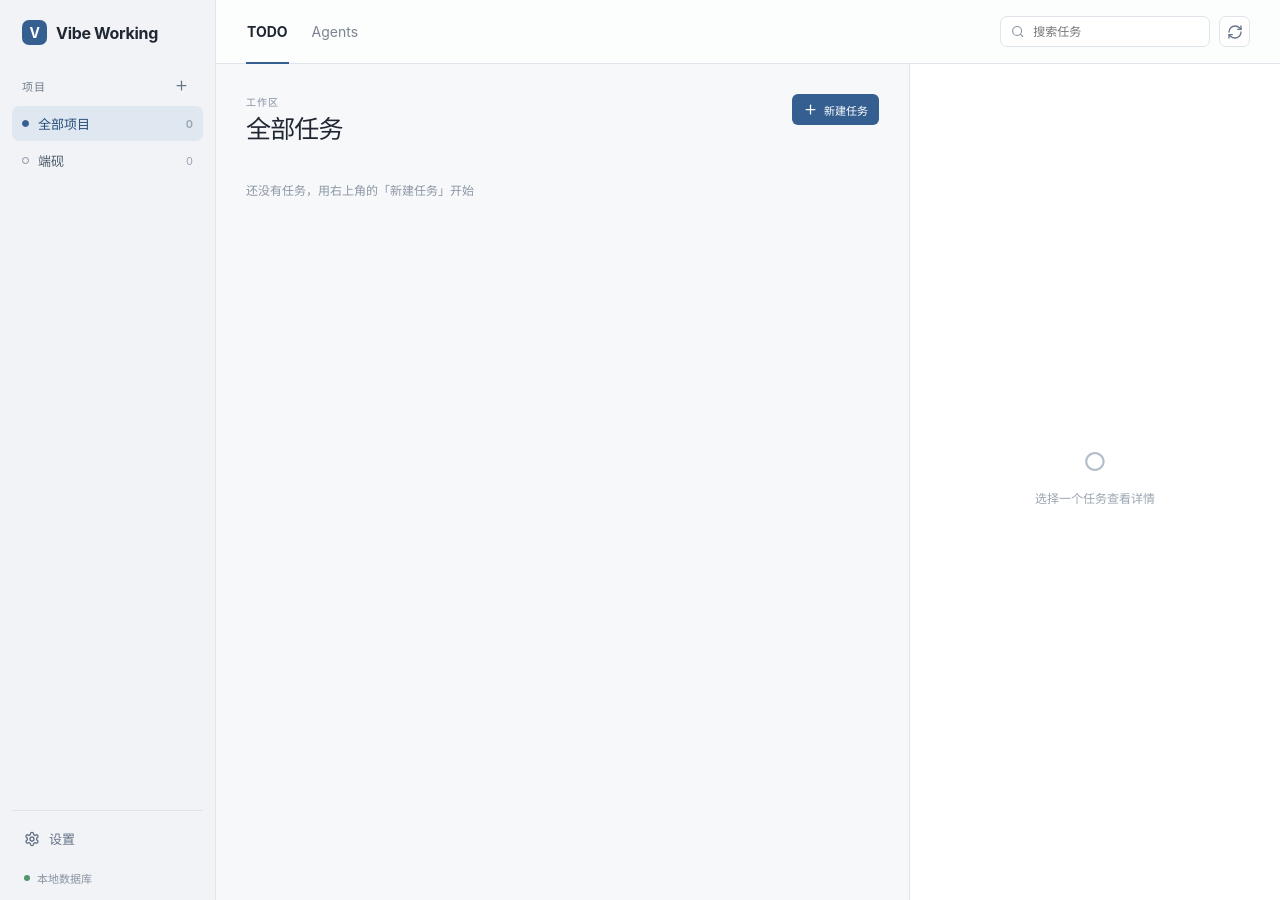
Test: running agents › says the project has nothing running rather than showing an empty list
Click the button with class "tab" showing "Agents": {"x": 335, "y": 32} [311,0,359,63]
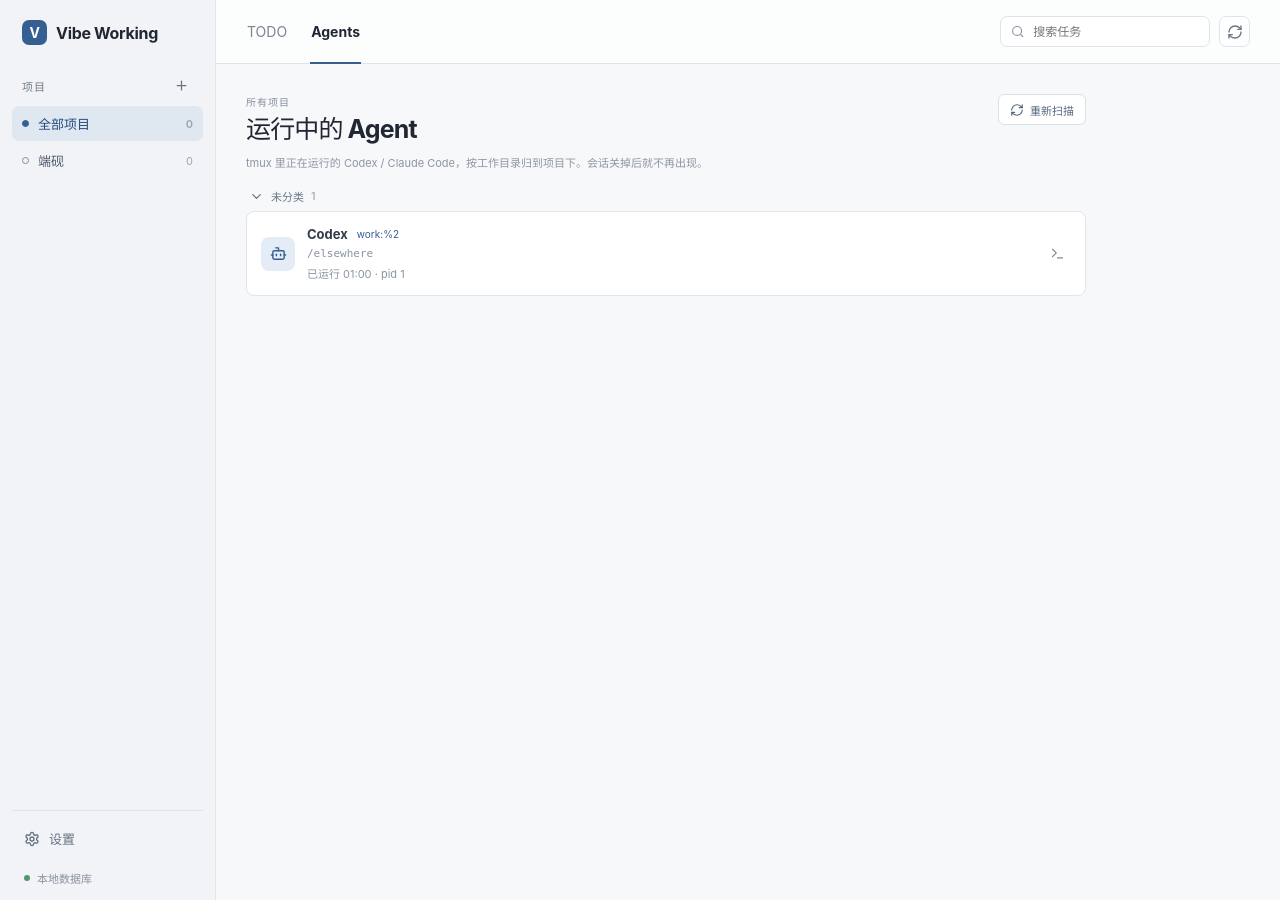
Click the button "端砚 0": {"x": 108, "y": 160} [12,143,203,178]
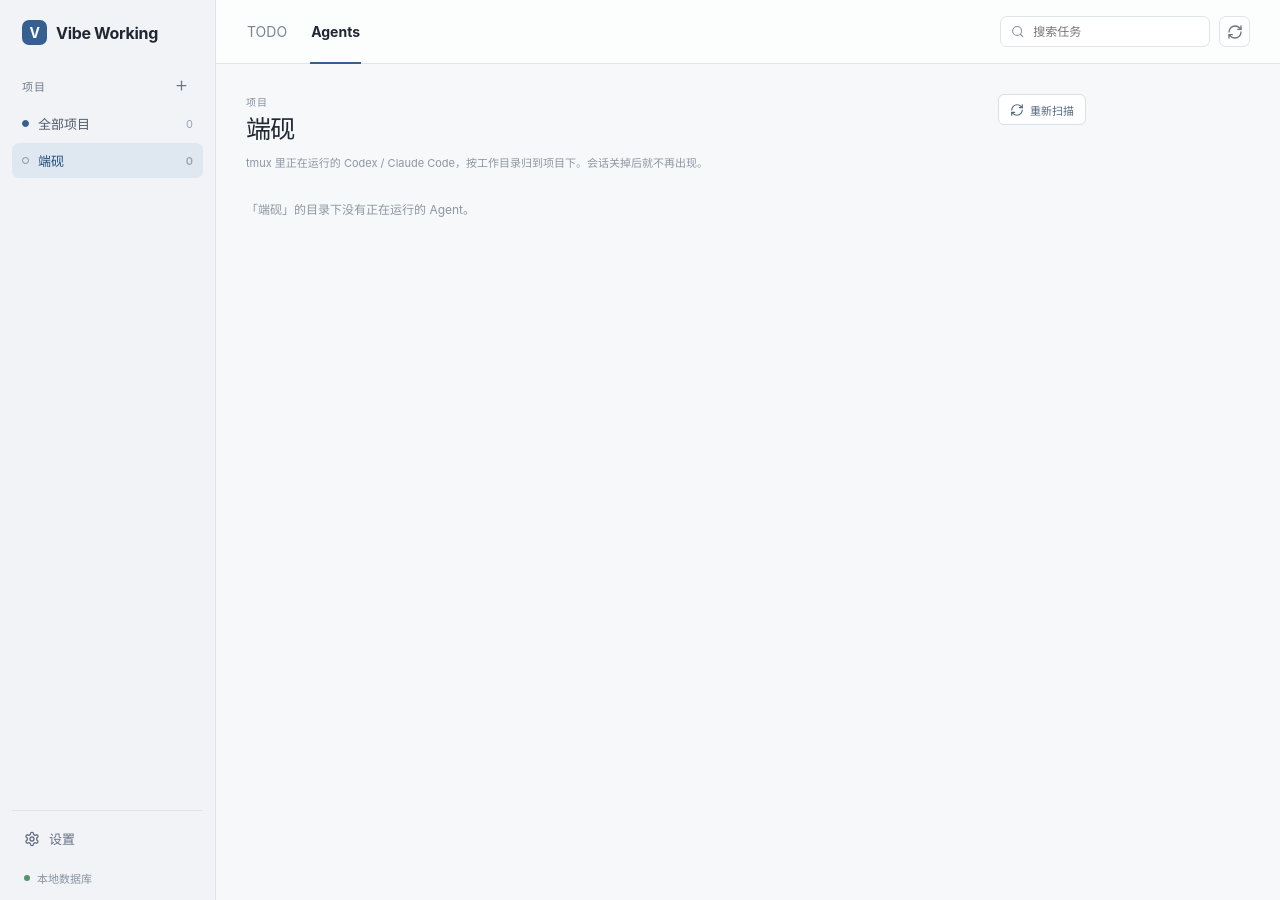
Expected: no elements with class "agent-row" are shown
Expected: the element with class "empty-state" shows "端砚", [246,202,475,217]
